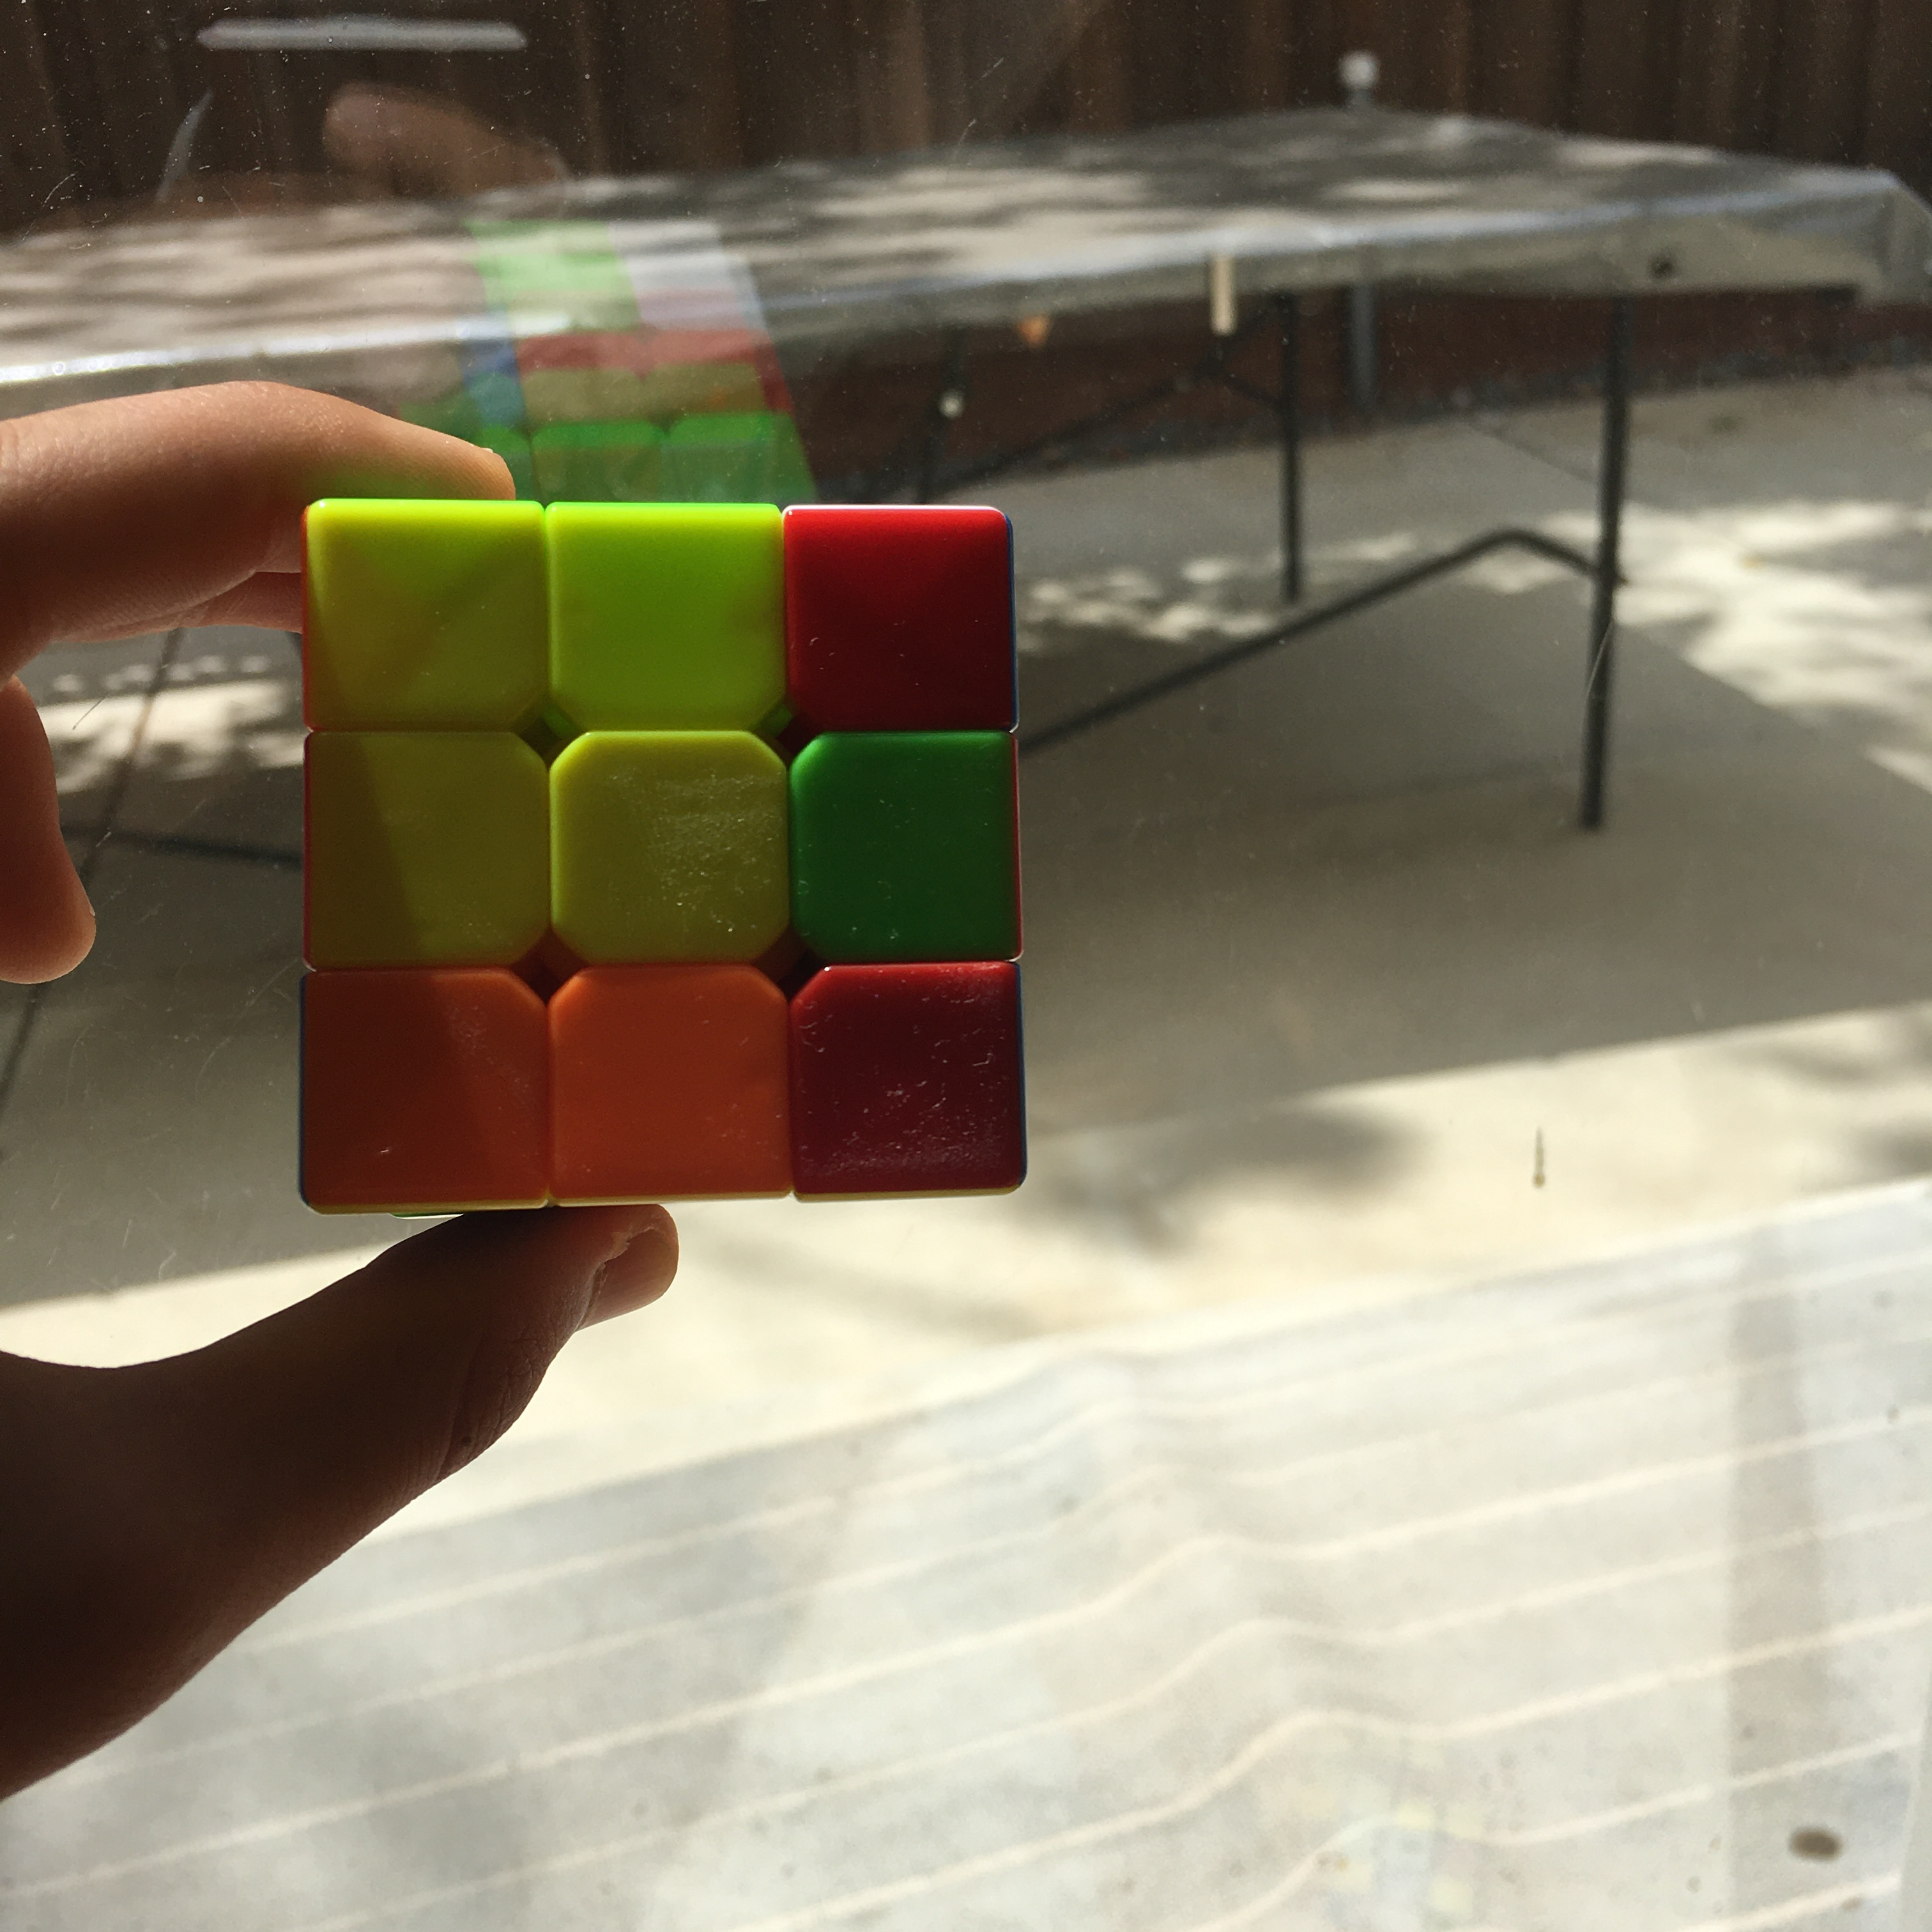face: (303, 499, 1030, 1191)
